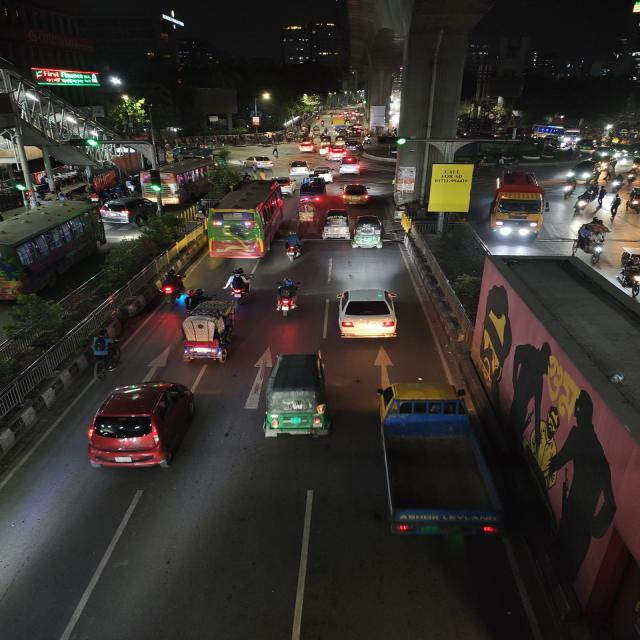bicycle: (80, 329, 125, 377)
bus: (0, 202, 106, 303), (206, 179, 286, 263), (140, 158, 216, 202)
car: (80, 378, 200, 478), (332, 286, 402, 344), (98, 197, 160, 226), (566, 158, 604, 184), (299, 178, 327, 204), (340, 182, 370, 206), (273, 175, 297, 197), (322, 143, 350, 161), (337, 158, 366, 175), (287, 160, 312, 176), (248, 156, 275, 170), (310, 166, 335, 180), (297, 139, 318, 155)
cng: (248, 347, 335, 443), (351, 213, 385, 253), (319, 208, 352, 243), (626, 185, 640, 211), (576, 138, 597, 152), (344, 139, 364, 153)
motorcycle: (154, 267, 188, 307), (273, 277, 302, 320), (225, 266, 256, 306), (617, 258, 640, 300), (281, 230, 305, 264), (571, 193, 596, 214), (560, 177, 578, 199), (611, 173, 626, 192), (624, 168, 639, 186)
pedestrian: (608, 192, 621, 222)
pickup_van: (366, 378, 500, 552)
rickshaw: (175, 298, 239, 368), (570, 222, 613, 264), (294, 200, 316, 224), (627, 185, 640, 212)
truck: (488, 170, 548, 246)
